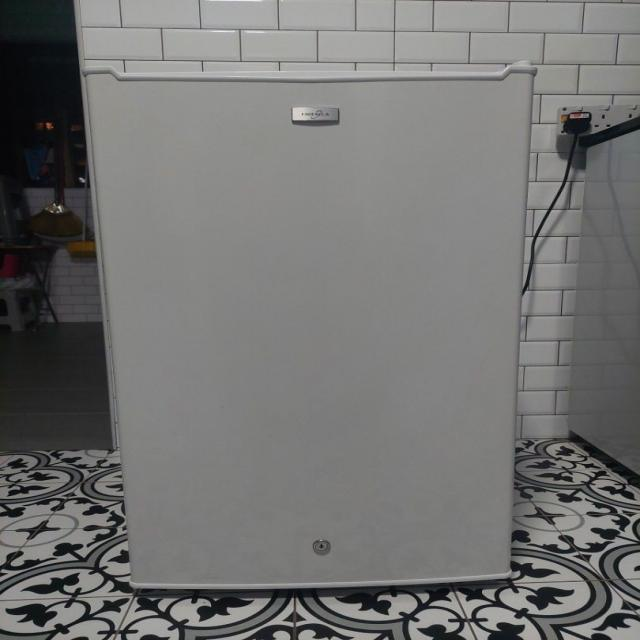refrigerator: (82, 68, 536, 583)
